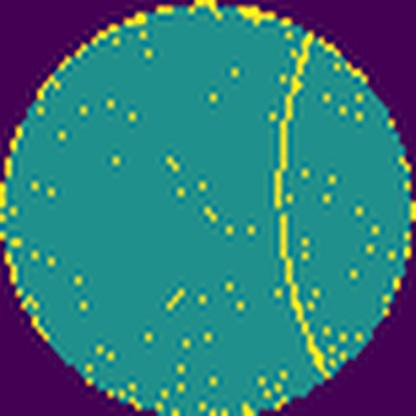Scratch: (263, 32, 334, 380)
